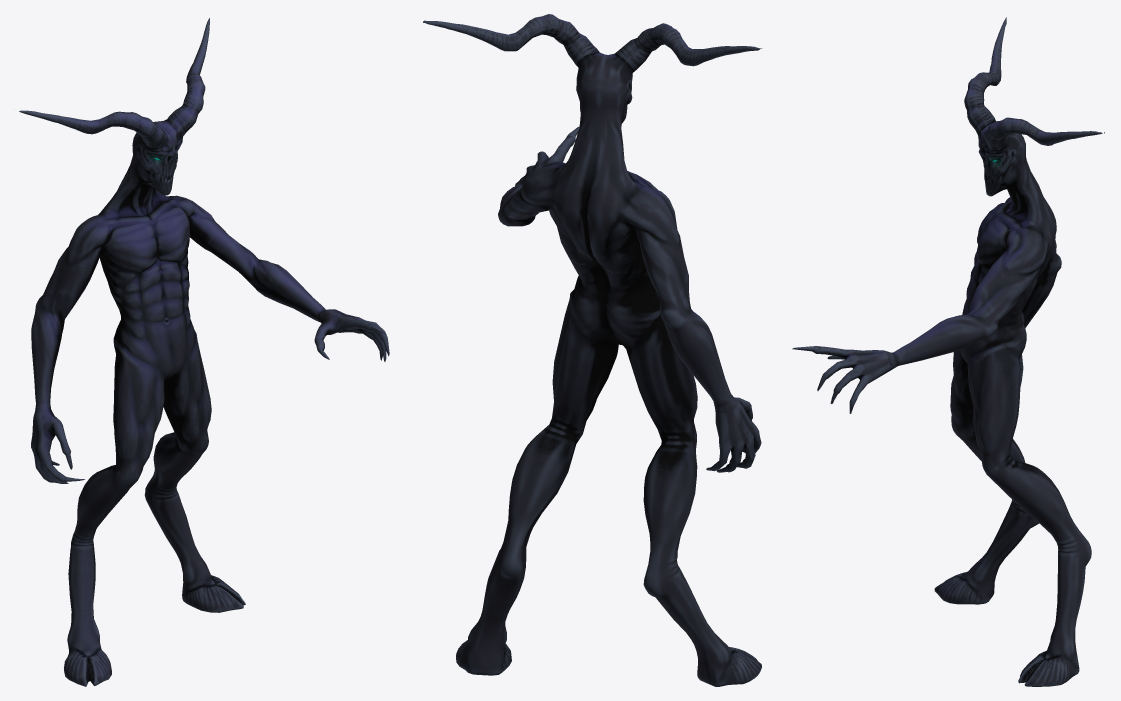
The model's file is MZ4250 - Nightwalker.glb.
3 renders of one model, left to right at view 1: azimuth 30°, elevation 25°; view 2: azimuth 150°, elevation 25°; view 3: azimuth 270°, elevation 25°, orthographic. The views are drawn at different scales.
Visible parts, largest first — view 1: body_low.001; view 2: body_low.001; view 3: body_low.001.
Part boxes in pixels (x1,y1,x2,y2): body_low.001: [19, 18, 389, 686]; body_low.001: [423, 14, 762, 686]; body_low.001: [792, 17, 1104, 686].
Bounding box in the file's own units: 3.18 × 5.88 × 3.
Materials: 1 (1 with a texture image).
